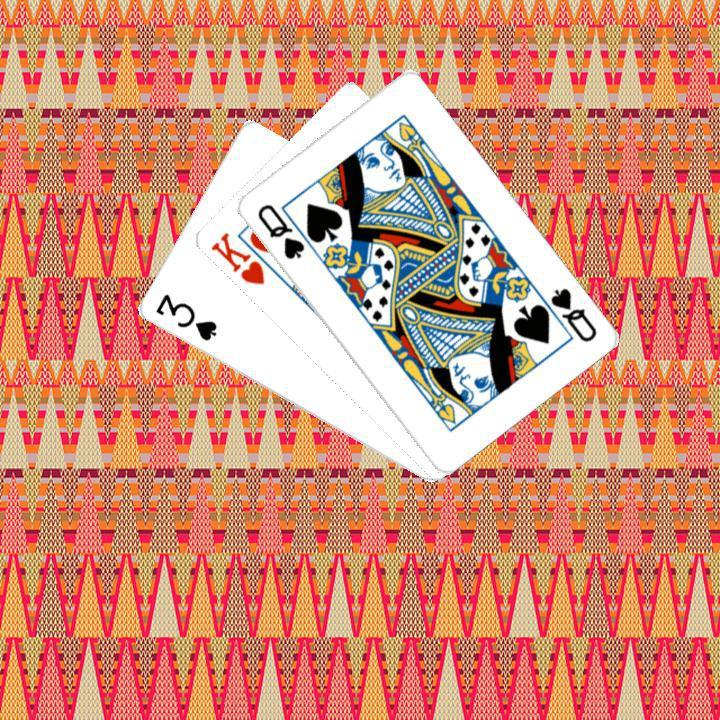3: (150, 289, 219, 343)
K: (205, 227, 267, 287)
Q: (252, 199, 307, 261), (545, 283, 598, 345)
